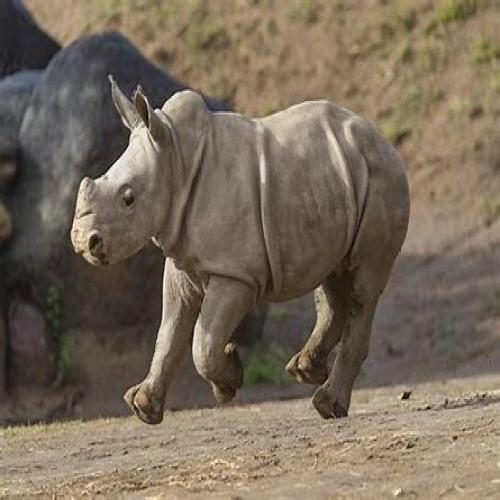rhino-endangered: (71, 67, 413, 425)
